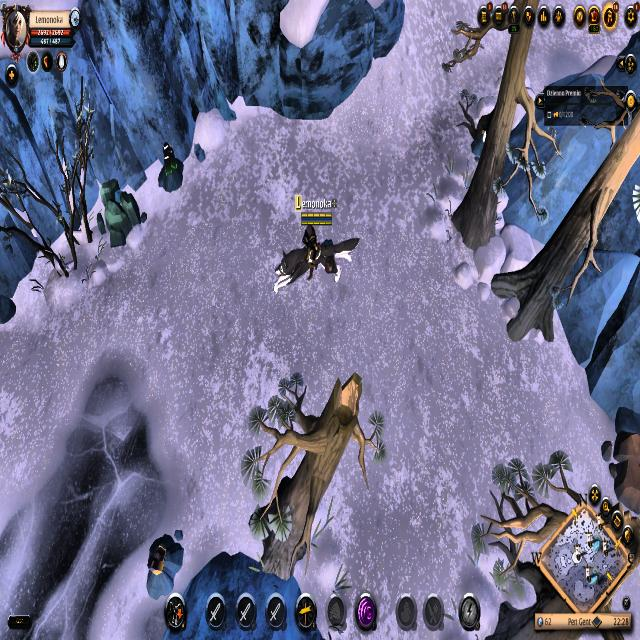ore tier 2: (145, 524, 186, 592)
ore tier 3: (157, 140, 185, 194)
rock tier 3: (96, 177, 150, 250)
